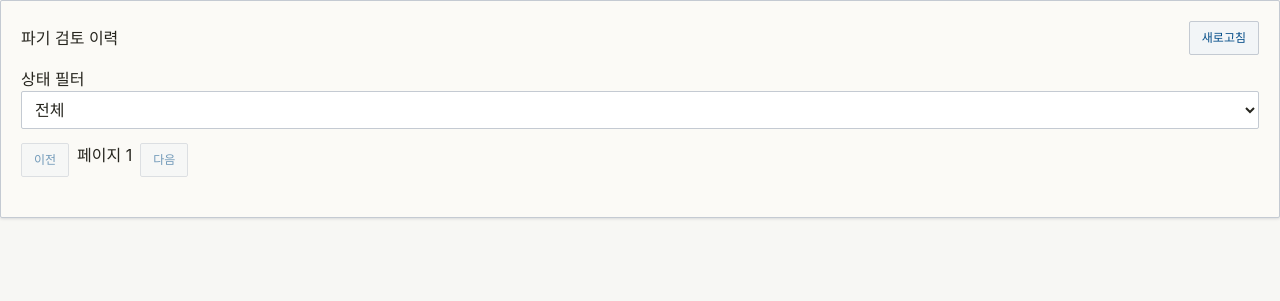
Test: ErasureAdmin target binding › does not let an older list response overwrite a newer refresh
Click the button "새로고침" at (1224, 38), box [1189, 21, 1259, 55]
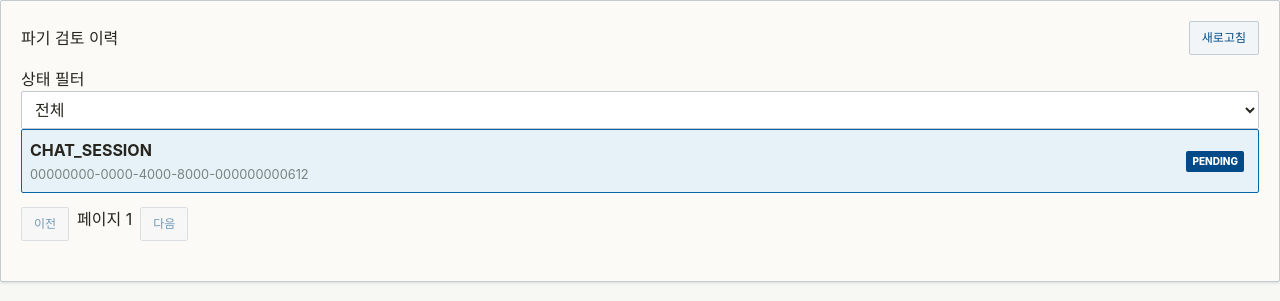
Now the text "00000000-0000-4000-8000-000000000612" is shown, box [30, 165, 309, 184]
